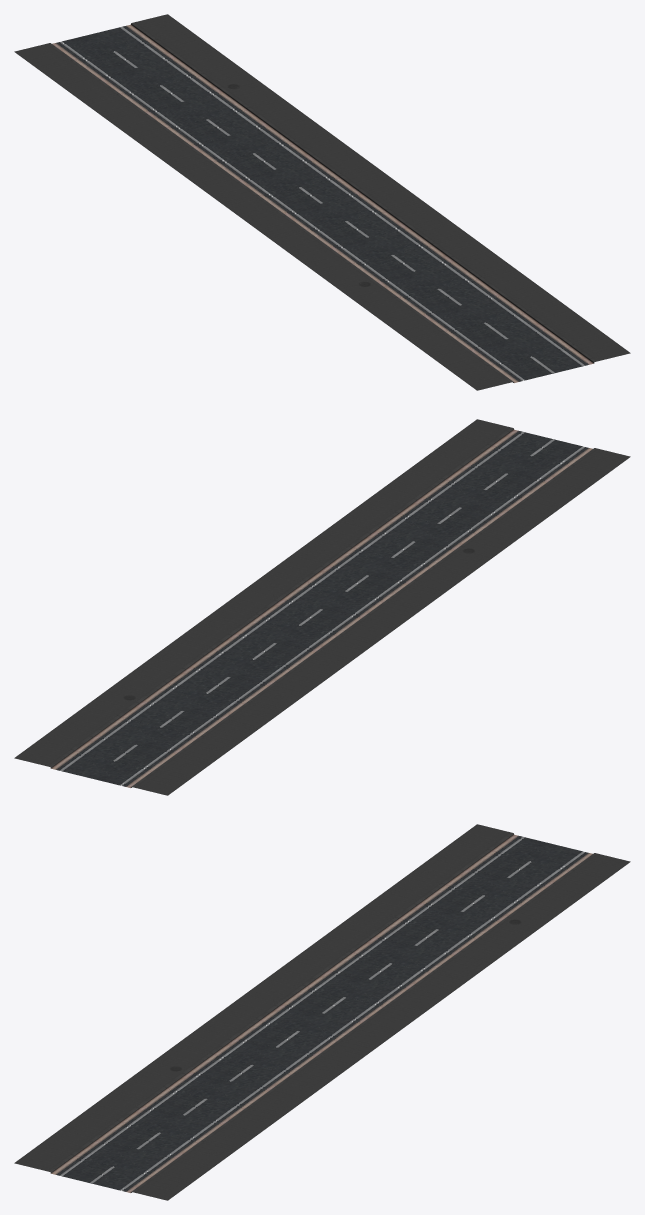
The model's file is or_city_road.fbx.
3 views of the same model, one above another, from view 1: azimuth 30°, elevation 25°; view 2: azimuth 150°, elevation 25°; view 3: azimuth 330°, elevation 25° (orthographic).
Parts seen in each view (by area): view 1: obj0; view 2: obj0; view 3: obj0.
Boxes of the visible parts, x1,y1,x2,y2 form: obj0: [14, 14, 630, 390]; obj0: [14, 419, 630, 795]; obj0: [14, 824, 630, 1200].
Bounding box in the file's own units: 29.21 × 0.254 × 152.
